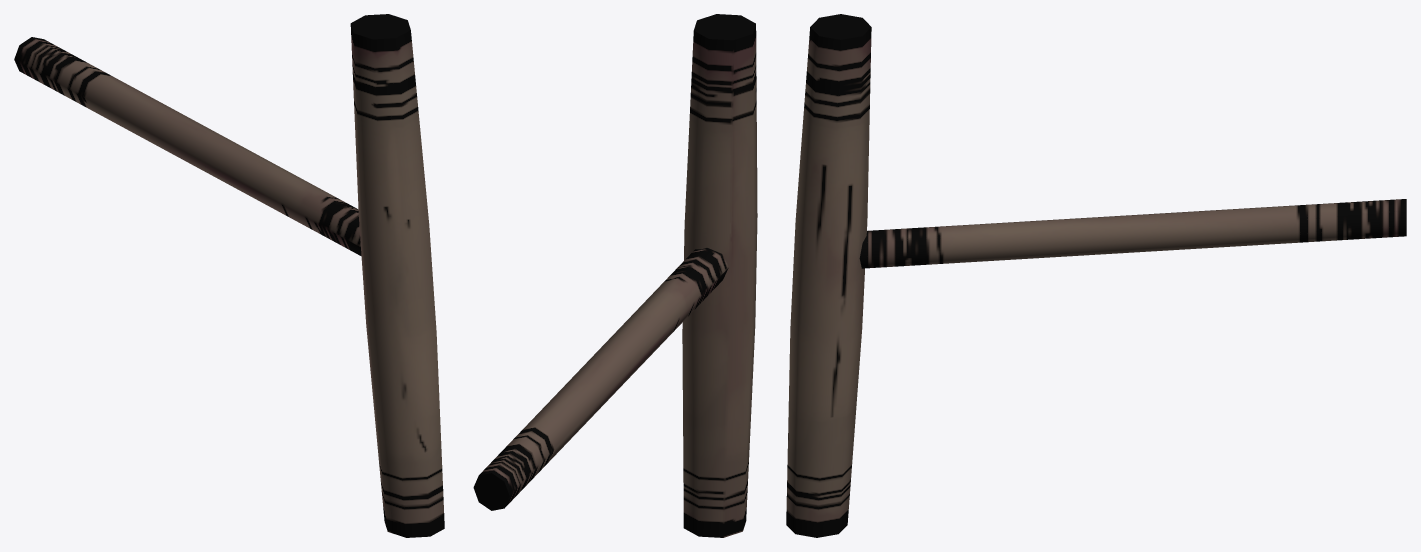
File: armchair_gib1.fbx
The picture shows the model from 3 angles, left to right: view 1: azimuth 30°, elevation 25°; view 2: azimuth 150°, elevation 25°; view 3: azimuth 270°, elevation 25°; orthographic projection. The views are drawn at different scales.
Parts seen in each view (by area): view 1: armchair_gib1; view 2: armchair_gib1; view 3: armchair_gib1.
Boxes of the visible parts, x1=… form: armchair_gib1: x1=14, y1=14, x2=444, y2=537; armchair_gib1: x1=473, y1=14, x2=757, y2=537; armchair_gib1: x1=786, y1=14, x2=1406, y2=537.
Size of the model in its own units: 41.6 by 154 by 177.
